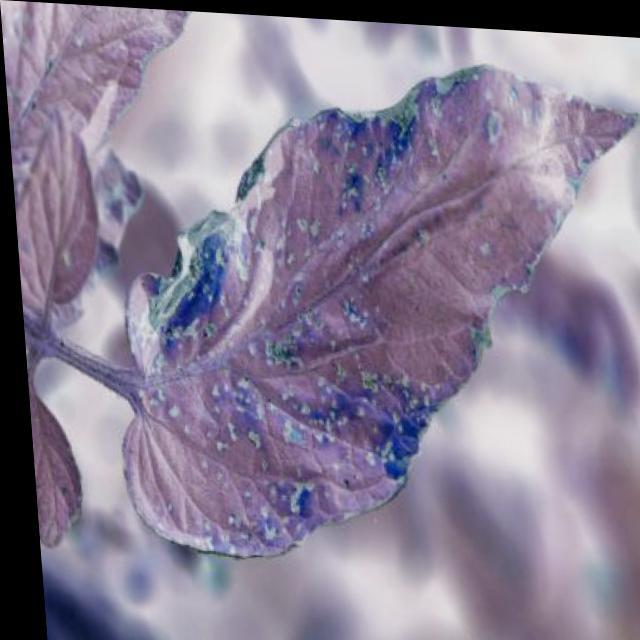Tomato late blight leaf: (52, 5, 639, 586)
